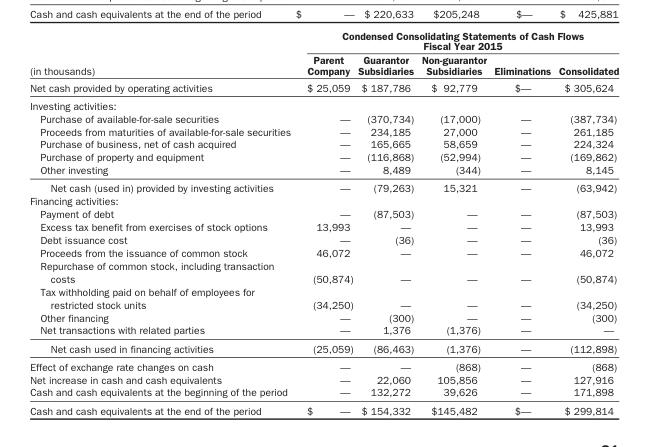table: (29, 29, 618, 416)
table column: (29, 29, 298, 416), (417, 29, 489, 416), (489, 29, 554, 416), (554, 29, 618, 416), (354, 29, 417, 416), (298, 29, 354, 416)
table column header: (29, 29, 618, 78)
table projected row header: (29, 96, 618, 111), (29, 194, 618, 207)
table row: (29, 52, 618, 78), (29, 258, 618, 284), (29, 284, 618, 310), (29, 29, 618, 52), (29, 78, 618, 96), (29, 339, 618, 357), (29, 178, 618, 194), (29, 323, 618, 339), (29, 385, 618, 401), (29, 96, 618, 111), (29, 163, 618, 178), (29, 357, 618, 372), (29, 401, 618, 416), (29, 111, 618, 124), (29, 124, 618, 137), (29, 137, 618, 150), (29, 150, 618, 163), (29, 194, 618, 207), (29, 207, 618, 220), (29, 220, 618, 233), (29, 233, 618, 246), (29, 310, 618, 323), (29, 372, 618, 385), (29, 246, 618, 258)
table spanning cell: (29, 29, 298, 78), (298, 29, 618, 52)
